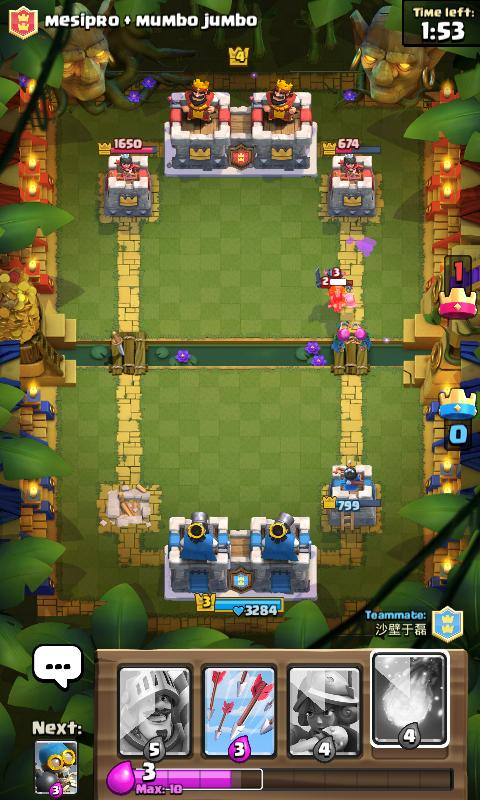ally_archer: (328, 318, 352, 355), (351, 320, 373, 353)
enemy_mini_pekka: (313, 265, 346, 288)
enemy_valkyrie: (319, 277, 354, 313)
